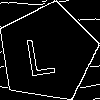L: (22, 27, 57, 77)
